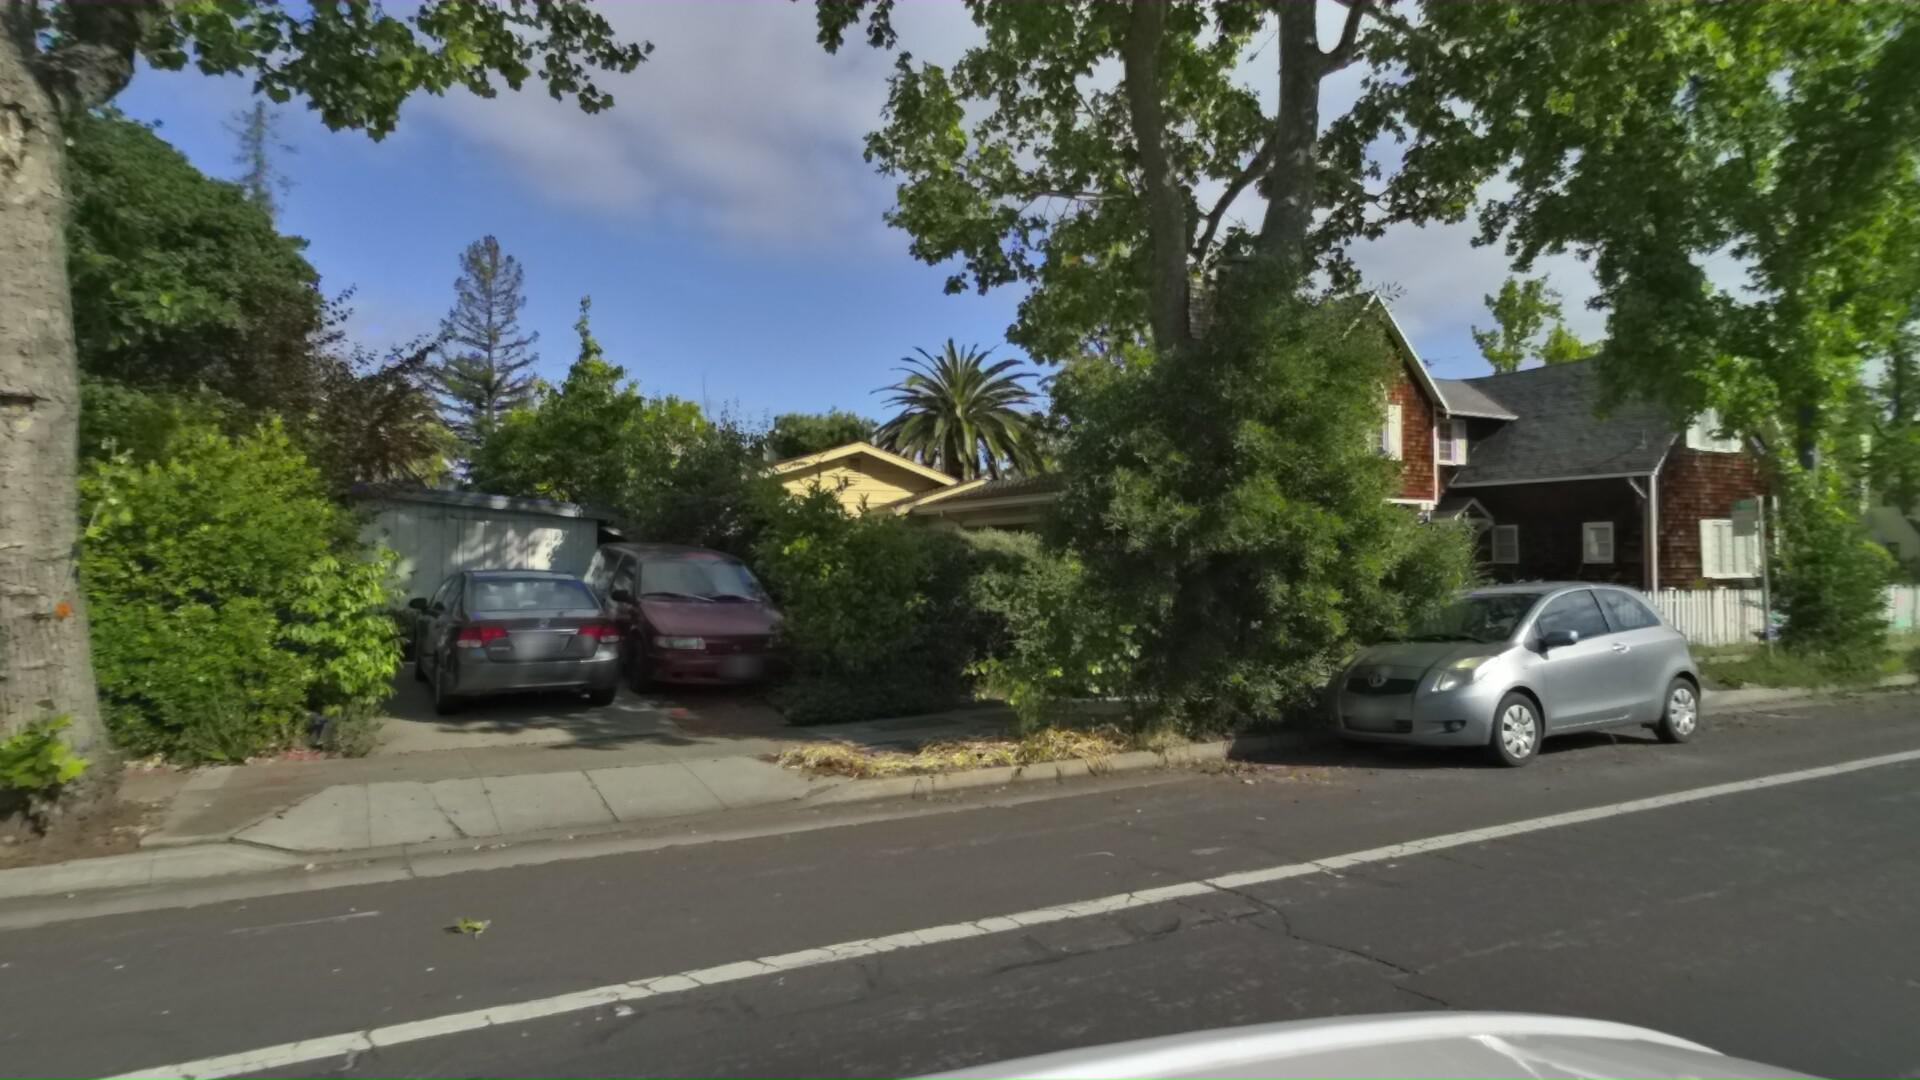car: (1232, 567, 1706, 800), (531, 534, 775, 709), (360, 562, 593, 733)
